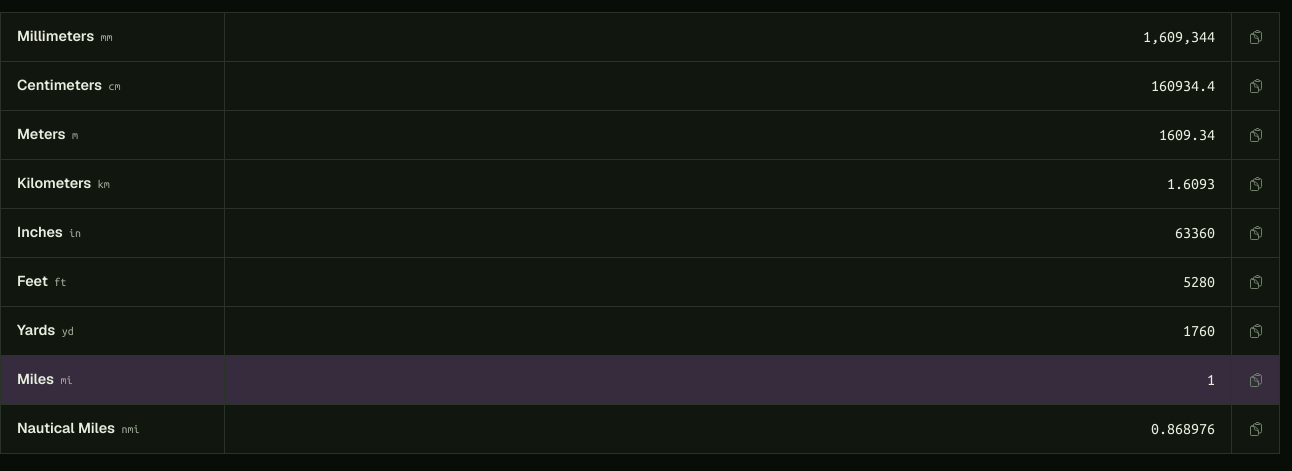
it: Unit converter panel › recomputes every row from the edited one
Expected: the field labelled "Kilometers km" holds "1.6093", [225,160,1231,208]
Replace the text in the field labelled "Meters m" with "100" at coordinates (728, 135), box [225,111,1231,159]
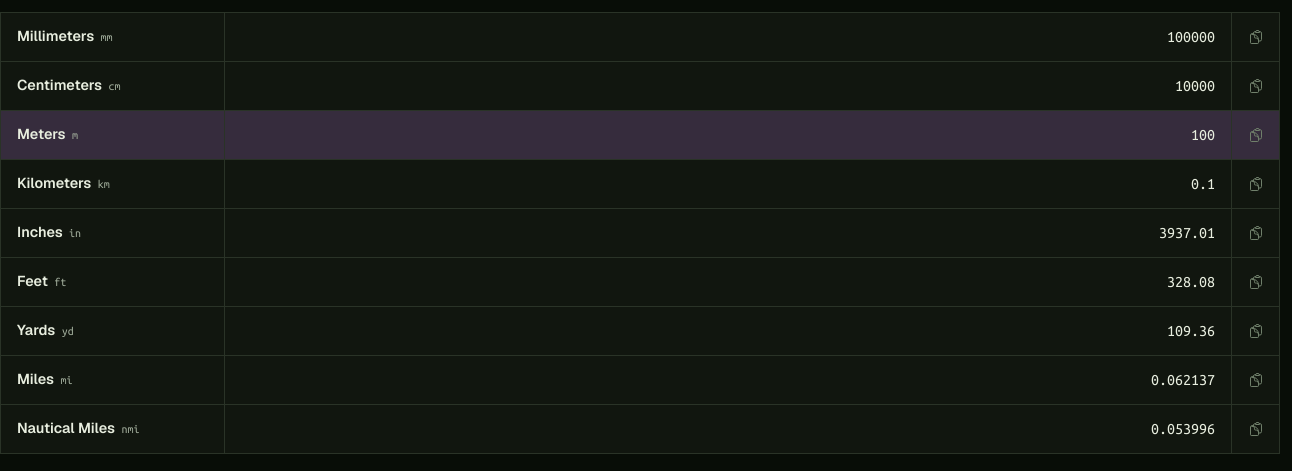
Expected: the field labelled "Centimeters cm" holds "10000", [225,62,1231,110]
